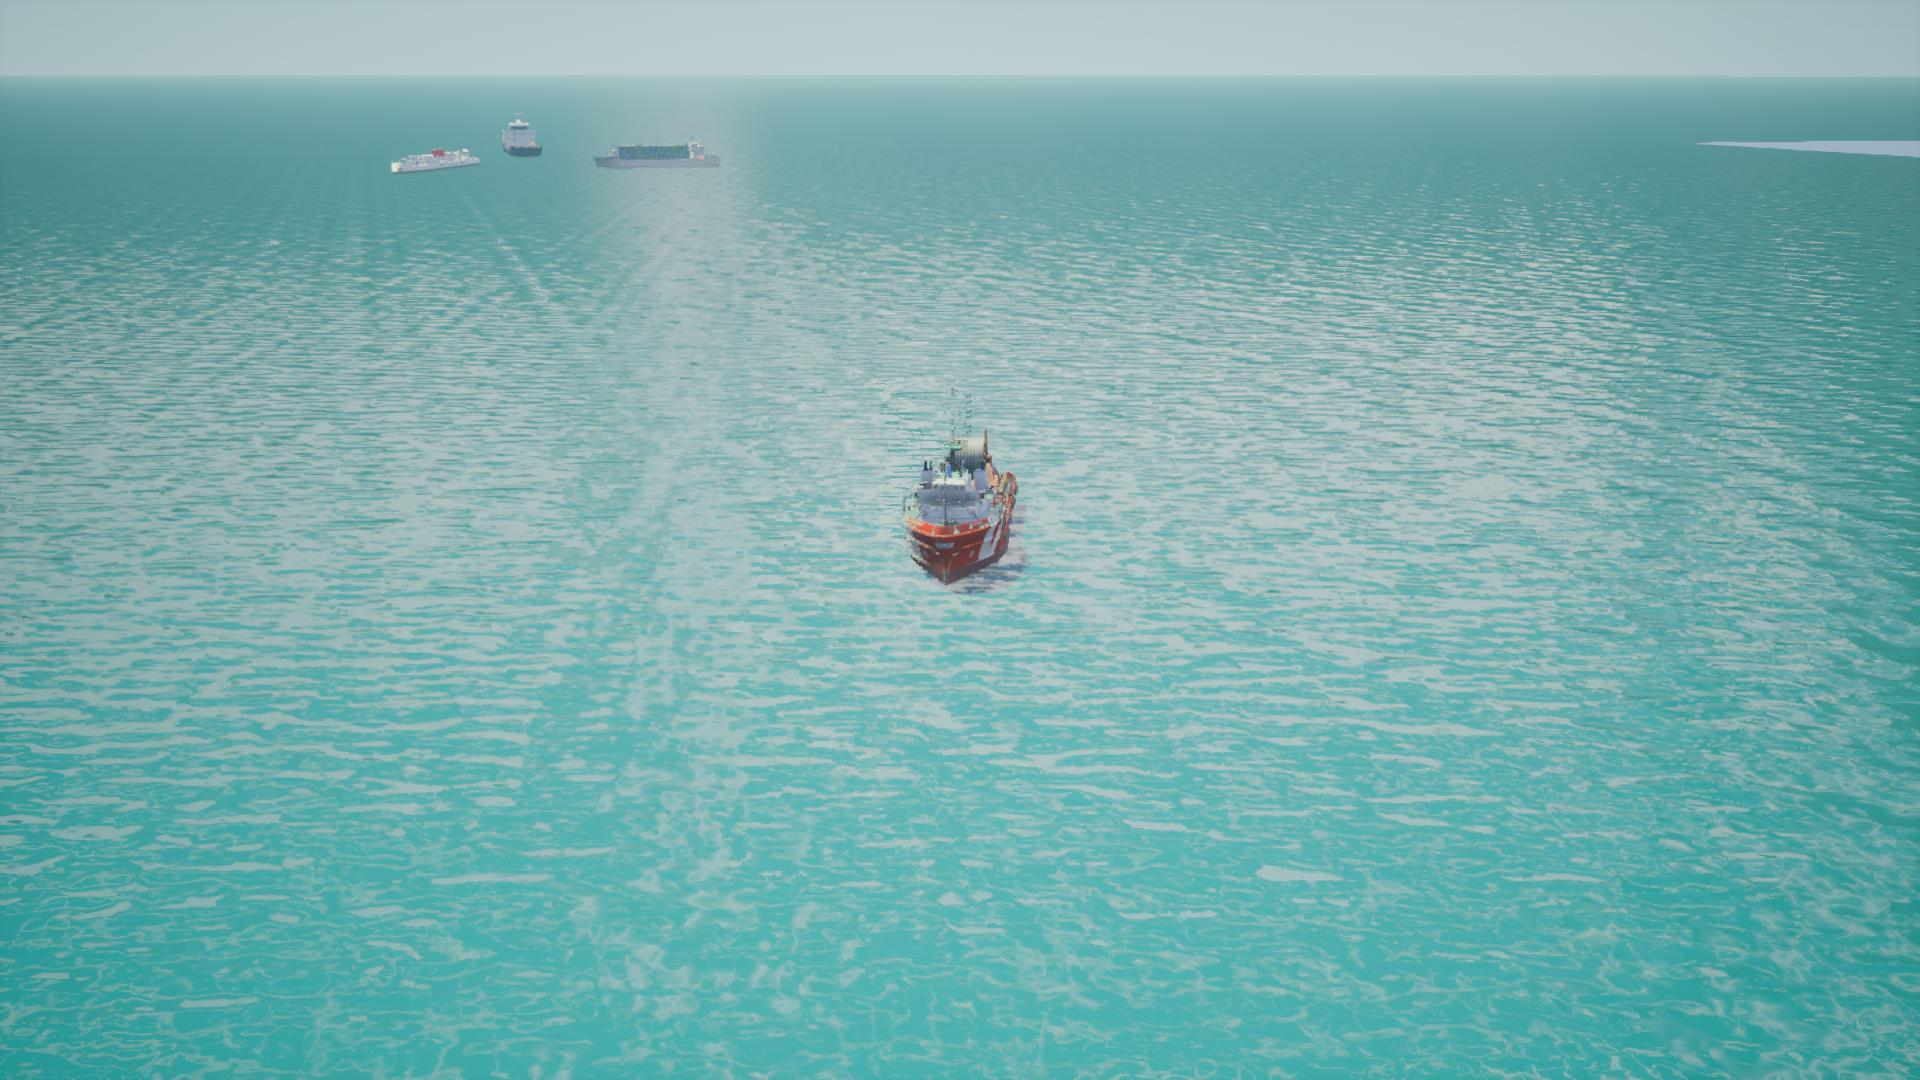Tug Boat: (901, 434, 1018, 587)
